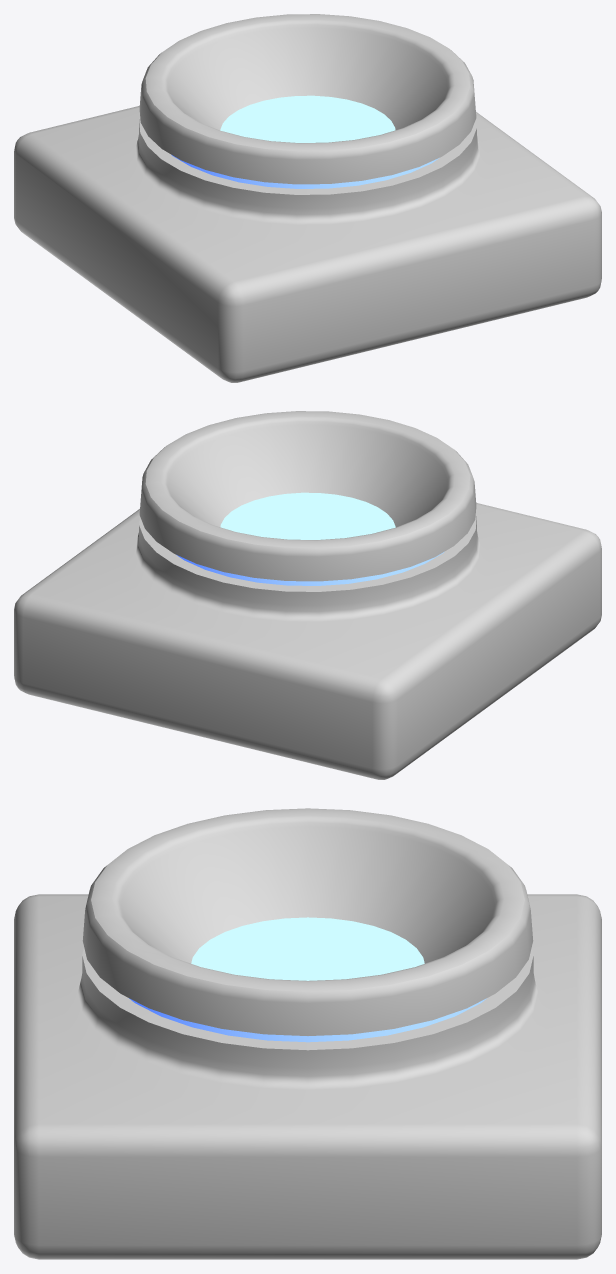
File: homeTile_01.fbx
3 renders of one model, top to bottom at view 1: azimuth 30°, elevation 25°; view 2: azimuth 150°, elevation 25°; view 3: azimuth 270°, elevation 25°, orthographic. The views are drawn at different scales.
Parts seen in each view (by area): view 1: Heart_base; view 2: Heart_base; view 3: Heart_base.
Boxes of the visible parts, x1,y1,x2,y2 form: Heart_base: (14,14,601,382); Heart_base: (14,411,601,779); Heart_base: (14,808,601,1259).
Bounding box in the file's own units: 400 × 184 × 400.
